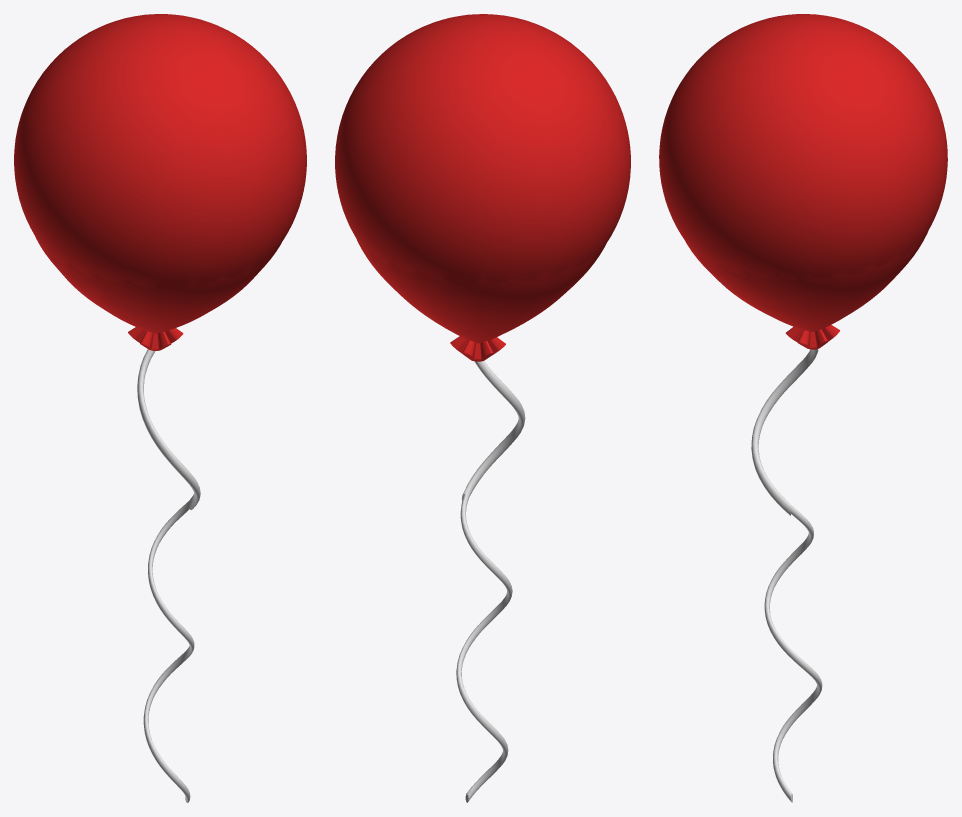
The model's file is balloon.glb.
3 renders of one model, left to right at view 1: azimuth 30°, elevation 25°; view 2: azimuth 150°, elevation 25°; view 3: azimuth 270°, elevation 25°, orthographic. The views are drawn at different scales.
Parts seen in each view (by area): view 1: group_0_15277357, group_0_6383466; view 2: group_0_15277357, group_0_6383466; view 3: group_0_15277357, group_0_6383466.
Part boxes in pixels (left/top/right/bottom): group_0_15277357: left=14, top=14, right=306, bottom=350; group_0_6383466: left=137, top=349, right=200, bottom=802; group_0_15277357: left=335, top=14, right=630, bottom=361; group_0_6383466: left=456, top=361, right=525, bottom=802; group_0_15277357: left=659, top=14, right=947, bottom=349; group_0_6383466: left=751, top=349, right=822, bottom=802.
Bounding box in the file's own units: 0.6252 × 1.83 × 0.625.
